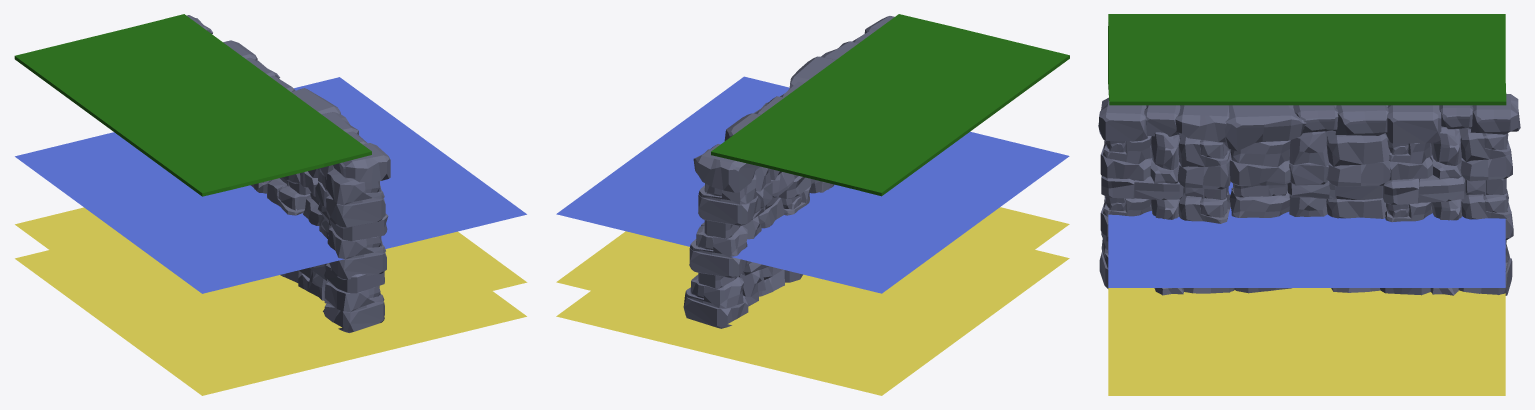
Rendered from 11__tile.fbx.
The picture shows the model from 3 angles, left to right: view 1: azimuth 30°, elevation 25°; view 2: azimuth 150°, elevation 25°; view 3: azimuth 270°, elevation 25°; orthographic projection. The views are drawn at different scales.
Parts seen in each view (by area): view 1: 11__tile; view 2: 11__tile; view 3: 11__tile.
Boxes of the visible parts, left/top/right/bottom form: 11__tile: left=14, top=14, right=527, bottom=395; 11__tile: left=556, top=14, right=1069, bottom=395; 11__tile: left=1098, top=14, right=1520, bottom=395.
Size of the model in its own units: 200 by 119 by 213.
